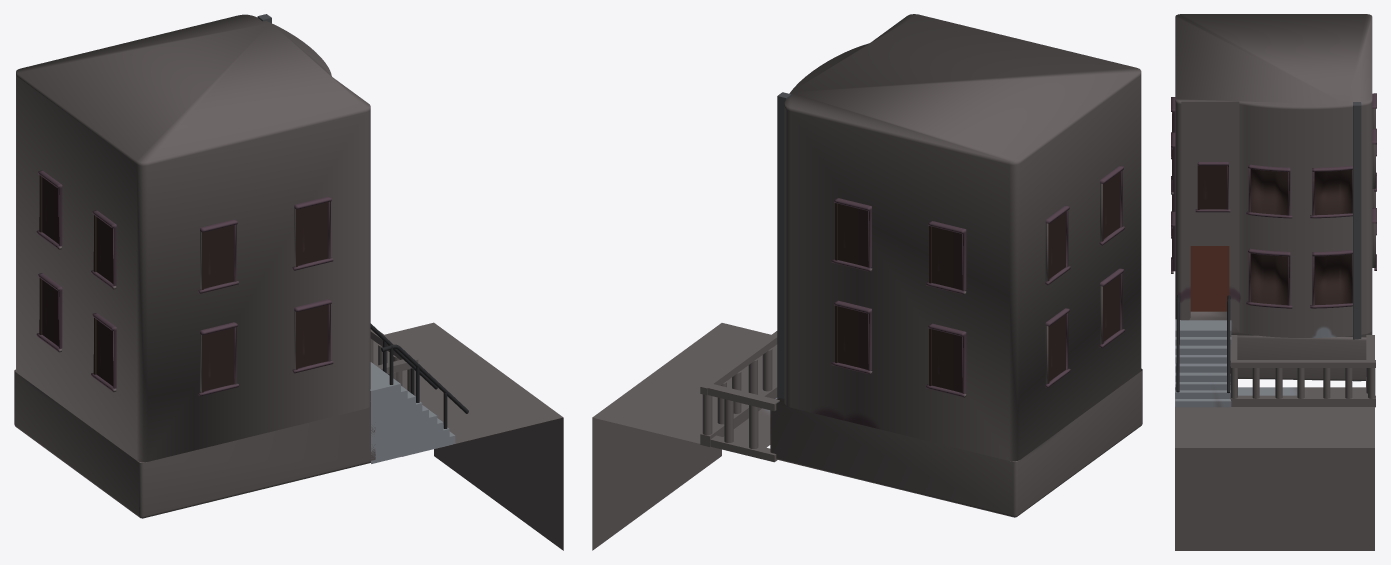
The model's file is MassAve_House_3_Mesh.fbx.
3 views of the same model, side by side, from view 1: azimuth 30°, elevation 25°; view 2: azimuth 150°, elevation 25°; view 3: azimuth 270°, elevation 25° (orthographic). The views are drawn at different scales.
Visible parts, largest first — view 1: House3; view 2: House3; view 3: House3.
Boxes of the visible parts, x1=… form: House3: x1=14, y1=14, x2=563, y2=550; House3: x1=592, y1=14, x2=1142, y2=550; House3: x1=1171, y1=14, x2=1376, y2=550.
Bounding box in the file's own units: 1173 × 1291 × 636.
1 material, 1 textured.
